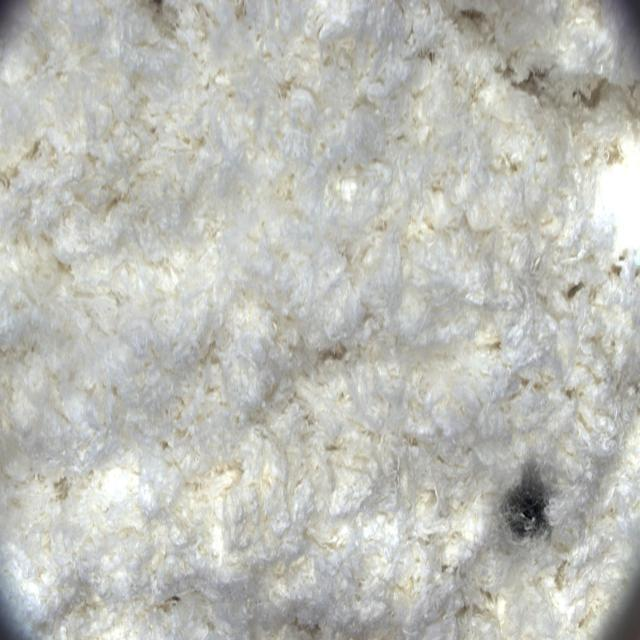dust: (482, 431, 585, 591)
